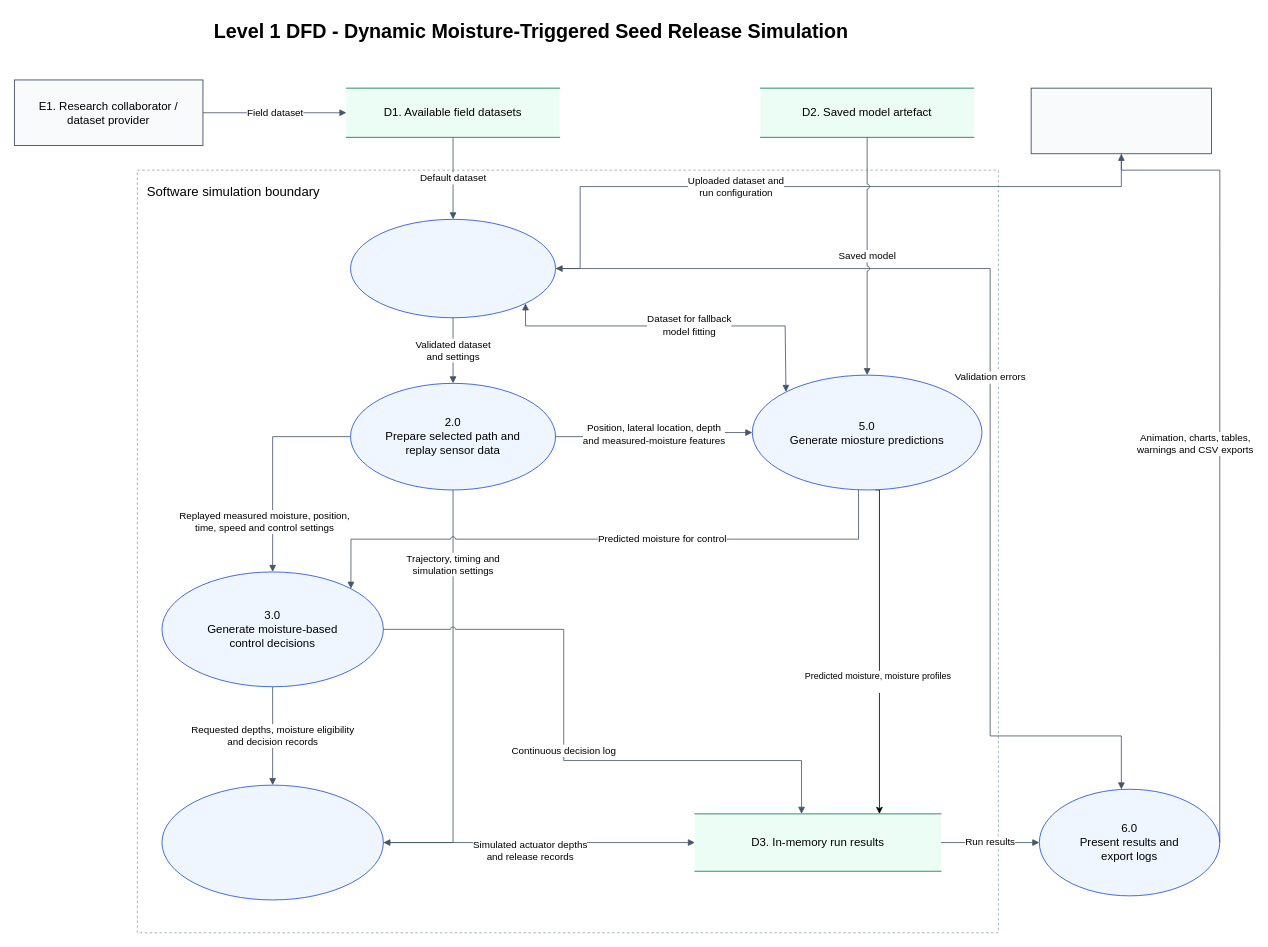
This 1268x947 diagram has some shape labels left out. Here are the shapes that lost their labels. From the top down, the centre of each, then its label:
At (x=1121, y=120): "E2. Operator / reviewer".
At (x=453, y=268): "1.0 Load and validate inputs".
At (x=272, y=842): "4.0 Simulate depth response and assemble release records".
